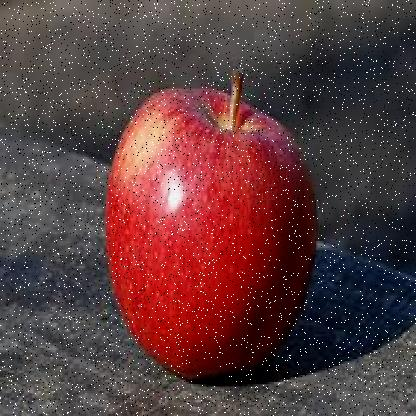apple: (109, 84, 316, 382)
